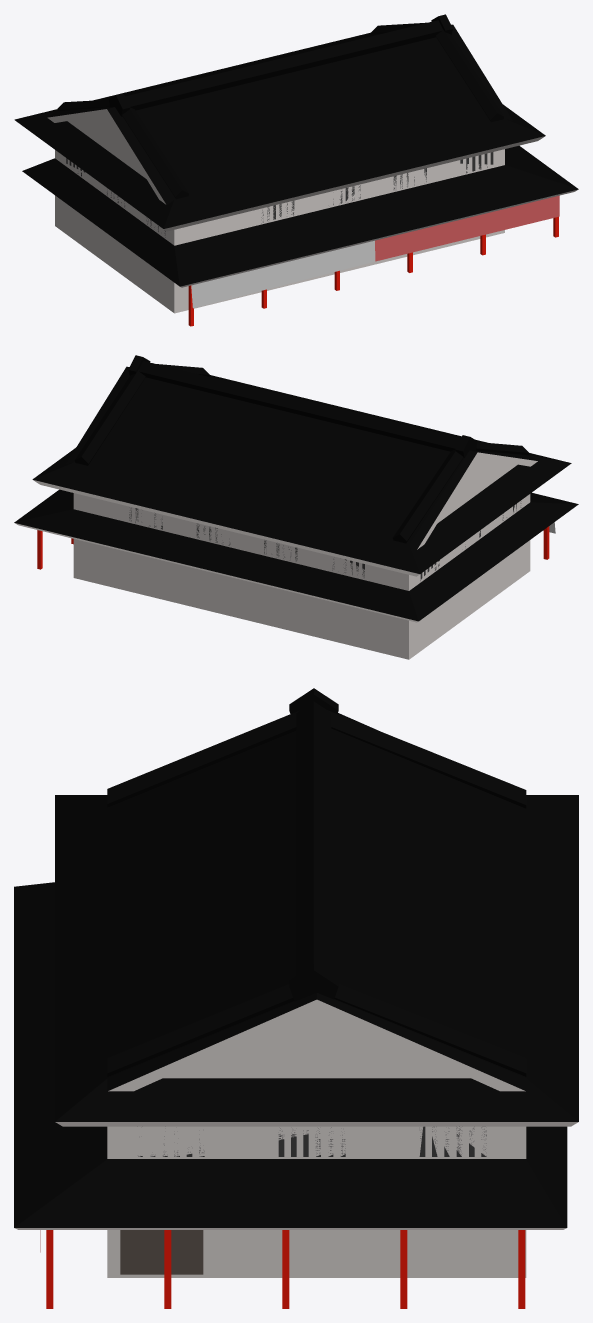
File: Village1.fbx
The picture shows the model from 3 angles, top to bottom: view 1: azimuth 30°, elevation 25°; view 2: azimuth 150°, elevation 25°; view 3: azimuth 270°, elevation 25°; orthographic projection. The views are drawn at different scales.
Parts seen in each view (by area): view 1: village; view 2: village; view 3: village.
Part boxes in pixels (x1,y1,x2,y2): village: [14, 14, 578, 326]; village: [14, 355, 578, 659]; village: [14, 688, 578, 1308].
Size of the model in its own units: 1558 by 647 by 1078.
